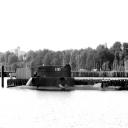submarine: (11, 65, 123, 91)
